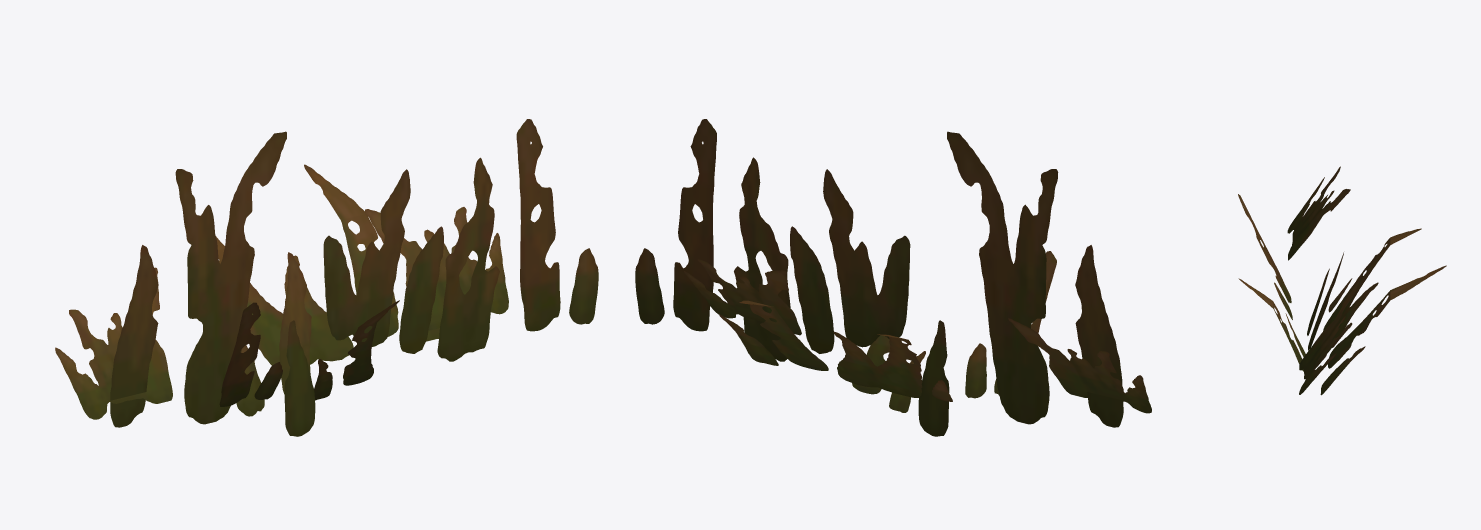
Rendered from grass_dead_07.fbx.
The picture shows the model from 3 angles, left to right: view 1: azimuth 30°, elevation 25°; view 2: azimuth 150°, elevation 25°; view 3: azimuth 270°, elevation 25°; orthographic projection. The views are drawn at different scales.
Visible parts, largest first — view 1: obj0.313; view 2: obj0.313; view 3: obj0.313.
Boxes of the visible parts, x1,y1,x2,y2 form: obj0.313: (55, 119, 598, 436); obj0.313: (635, 119, 1151, 436); obj0.313: (1238, 166, 1446, 395).
Size of the model in its own units: 1.48 by 1.01 by 0.7394.
